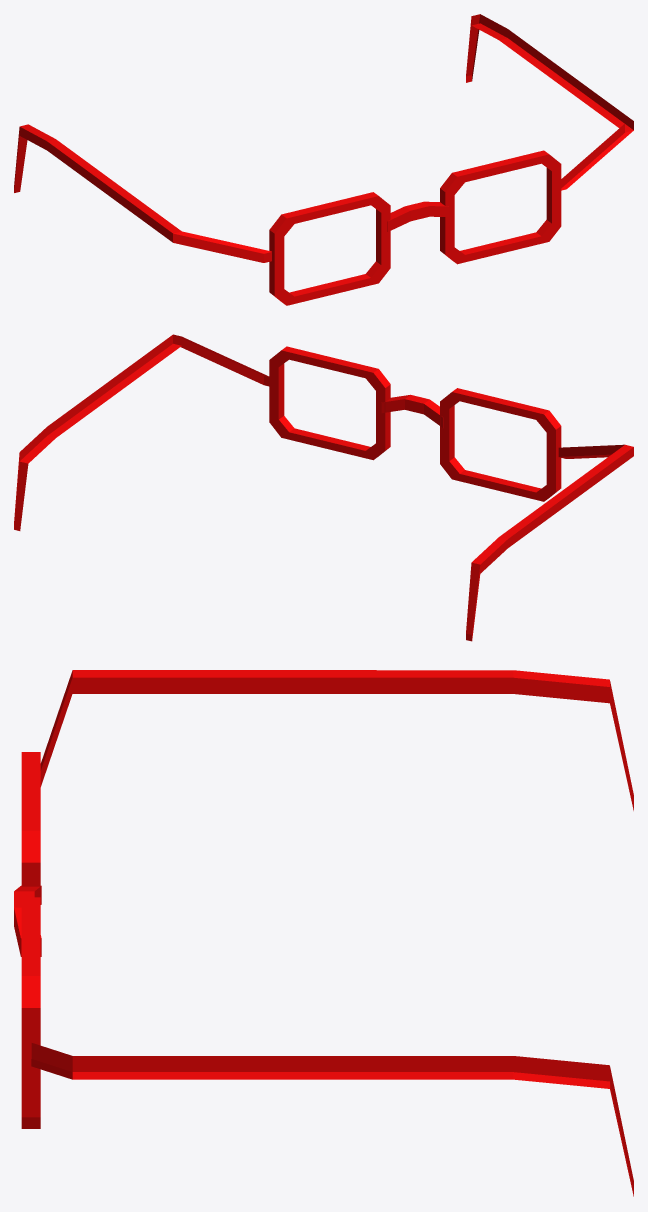
Rendered from glasses_square_01.glb.
3 views of the same model, one above another, from view 1: azimuth 30°, elevation 25°; view 2: azimuth 150°, elevation 25°; view 3: azimuth 270°, elevation 25° (orthographic). The views are drawn at different scales.
Visible parts, largest first — view 1: glasses_square_01; view 2: glasses_square_01; view 3: glasses_square_01.
Part boxes in pixels (x1=…): glasses_square_01: x1=14, y1=14, x2=633, y2=305; glasses_square_01: x1=14, y1=334, x2=633, y2=641; glasses_square_01: x1=14, y1=670, x2=633, y2=1196.
Bounding box in the file's own units: 0.2702 × 0.049 × 0.18.
1 material, 1 textured.
